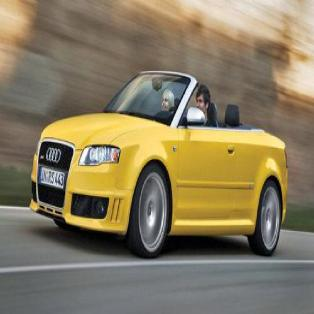Auto: (28, 69, 288, 259)
